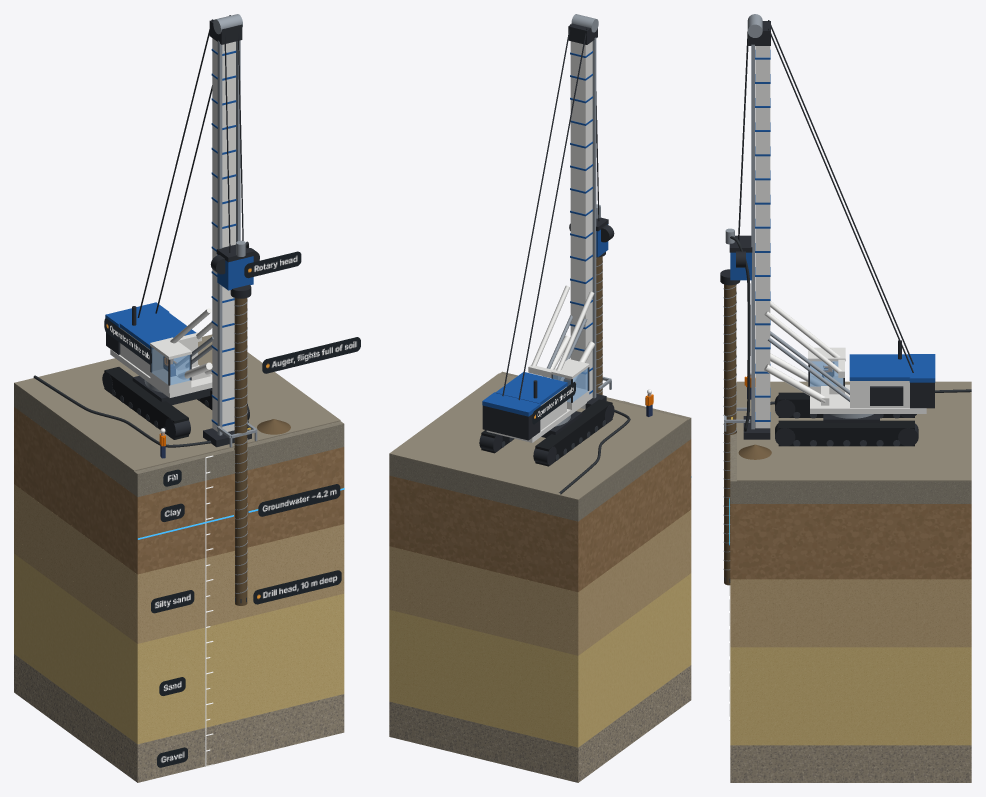
The model's file is cfa-makett-feliratok-en.glb.
3 renders of one model, left to right at view 1: azimuth 30°, elevation 25°; view 2: azimuth 150°, elevation 25°; view 3: azimuth 270°, elevation 25°, orthographic. The views are drawn at different scales.
Visible parts, largest first — view 1: Homok, Agyag (furat), CFA_furogep, Iszapos homok (furat), Munkaszint, Kavics, Feltöltés (furat), Felirat (×6), Iszapos homok, Talaj_a_meneteken, Melysegi_vonalzo, object 15 (+2 smaller); view 2: Homok, Agyag (furat), CFA_furogep, Iszapos homok (furat), Munkaszint, Kavics, Feltöltés (furat), Iszapos homok, Talaj_a_meneteken, Felirat; view 3: CFA_furogep, Homok, Agyag (furat), Iszapos homok (furat), Munkaszint, Kavics, Feltöltés (furat), Iszapos homok, Talaj_a_meneteken, Betontomlo, Furocsiga, object 15.
Part boxes in pixels (box(x1,y1,x2,y2)): Homok: box(14, 554, 344, 744); Agyag (furat): box(14, 407, 344, 574); CFA_furogep: box(102, 14, 251, 447); Iszapos homok (furat): box(14, 484, 344, 628); Munkaszint: box(14, 334, 340, 471); Kavics: box(14, 654, 344, 782); Feltöltés (furat): box(14, 384, 344, 497); Felirat (×6): box(104, 251, 360, 613); Iszapos homok: box(14, 538, 344, 643); Talaj_a_meneteken: box(234, 298, 247, 605); Melysegi_vonalzo: box(205, 455, 213, 766); object 15: box(217, 254, 253, 290); Homok: box(389, 573, 691, 747); Agyag (furat): box(389, 439, 691, 591); CFA_furogep: box(479, 14, 614, 466); Iszapos homok (furat): box(389, 510, 691, 641); Munkaszint: box(389, 373, 687, 500); Kavics: box(389, 665, 691, 782); Feltöltés (furat): box(389, 371, 691, 521); Iszapos homok: box(389, 559, 691, 655); Talaj_a_meneteken: box(596, 256, 602, 394); Felirat: box(532, 382, 575, 424); CFA_furogep: box(738, 14, 935, 446); Homok: box(730, 647, 971, 745); Agyag (furat): box(730, 504, 971, 579); Iszapos homok (furat): box(730, 579, 971, 631); Munkaszint: box(737, 381, 971, 481); Kavics: box(730, 745, 971, 782); Feltöltés (furat): box(730, 384, 971, 503); Iszapos homok: box(730, 632, 971, 647); Talaj_a_meneteken: box(724, 284, 736, 585); Betontomlo: box(730, 236, 971, 431); Furocsiga: box(723, 284, 736, 582); object 15: box(730, 252, 751, 280).
Size of the model in its own units: 0.251 by 0.7896 by 0.2518.
Materials: 39 (15 with a texture image).
